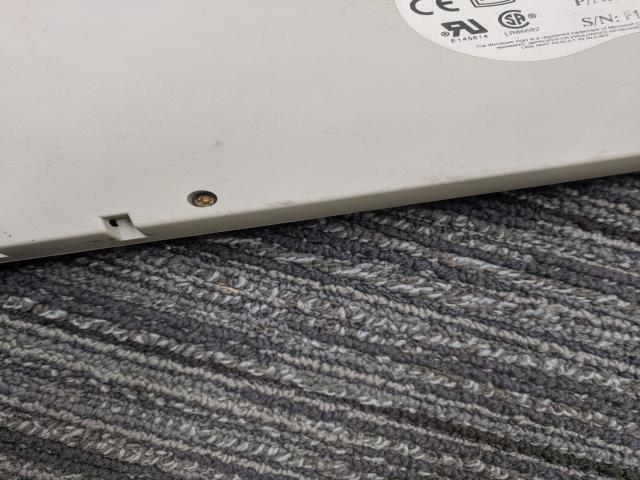CRS: (187, 191, 218, 210)
